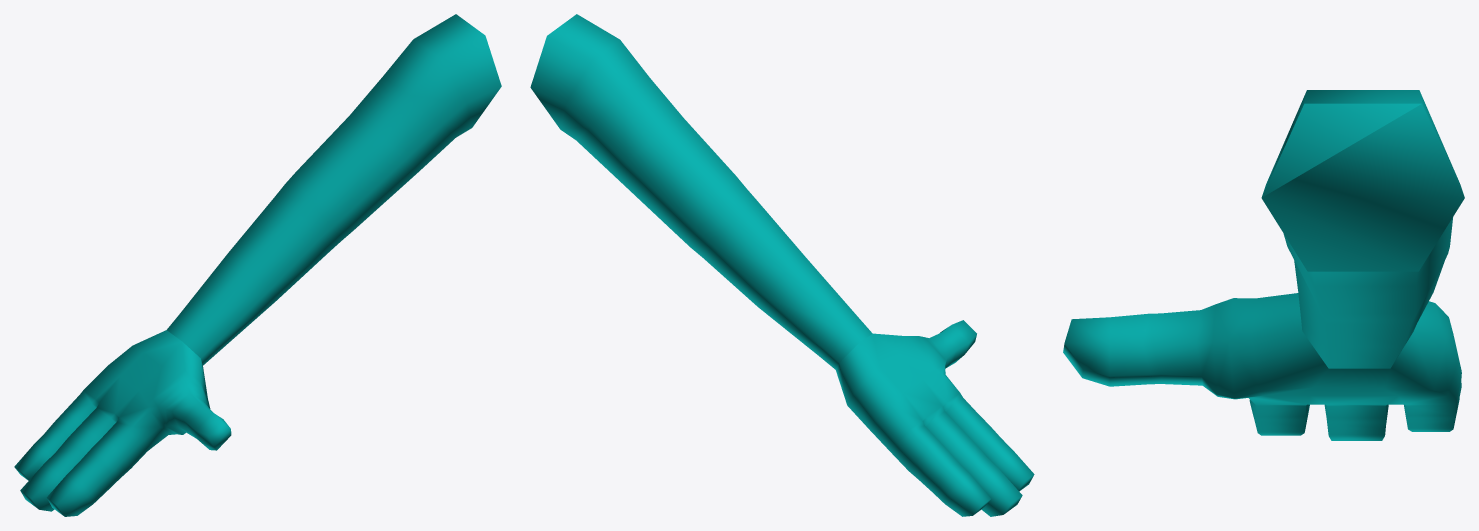
The model's file is brazoDerecho.obj.
3 renders of one model, left to right at view 1: azimuth 30°, elevation 25°; view 2: azimuth 150°, elevation 25°; view 3: azimuth 270°, elevation 25°, orthographic. The views are drawn at different scales.
Visible parts, largest first — view 1: BrazoDerecho_Mesh_0119.rip_noesis_meshnode_0000_Mesh_0119.rip.00; view 2: BrazoDerecho_Mesh_0119.rip_noesis_meshnode_0000_Mesh_0119.rip.00; view 3: BrazoDerecho_Mesh_0119.rip_noesis_meshnode_0000_Mesh_0119.rip.00.
Part boxes in pixels (box(x1,y1,x2,y2)): BrazoDerecho_Mesh_0119.rip_noesis_meshnode_0000_Mesh_0119.rip.00: box(14, 14, 501, 516); BrazoDerecho_Mesh_0119.rip_noesis_meshnode_0000_Mesh_0119.rip.00: box(530, 14, 1034, 516); BrazoDerecho_Mesh_0119.rip_noesis_meshnode_0000_Mesh_0119.rip.00: box(1063, 90, 1464, 440).
Size of the model in its own units: 0.3961 by 0.3156 by 0.1525.
